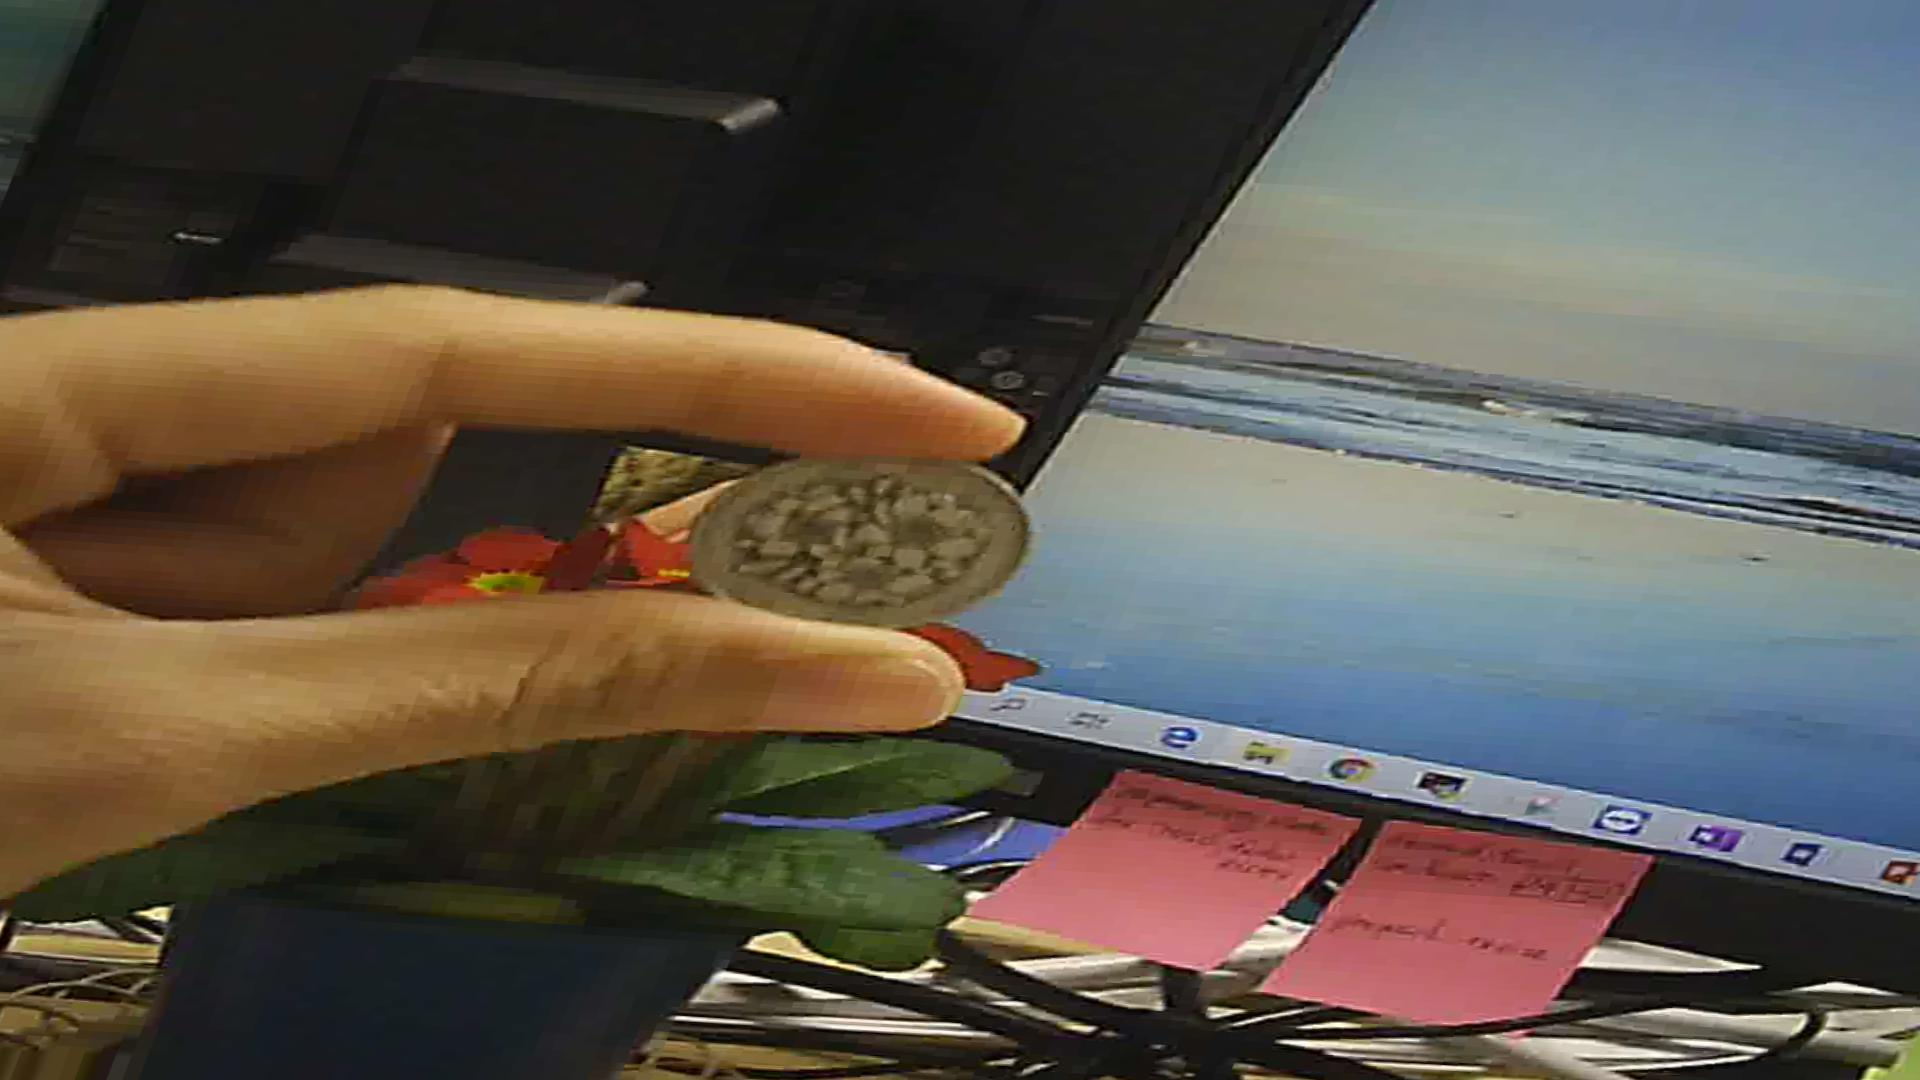100 Yen: (687, 436, 1033, 628)
